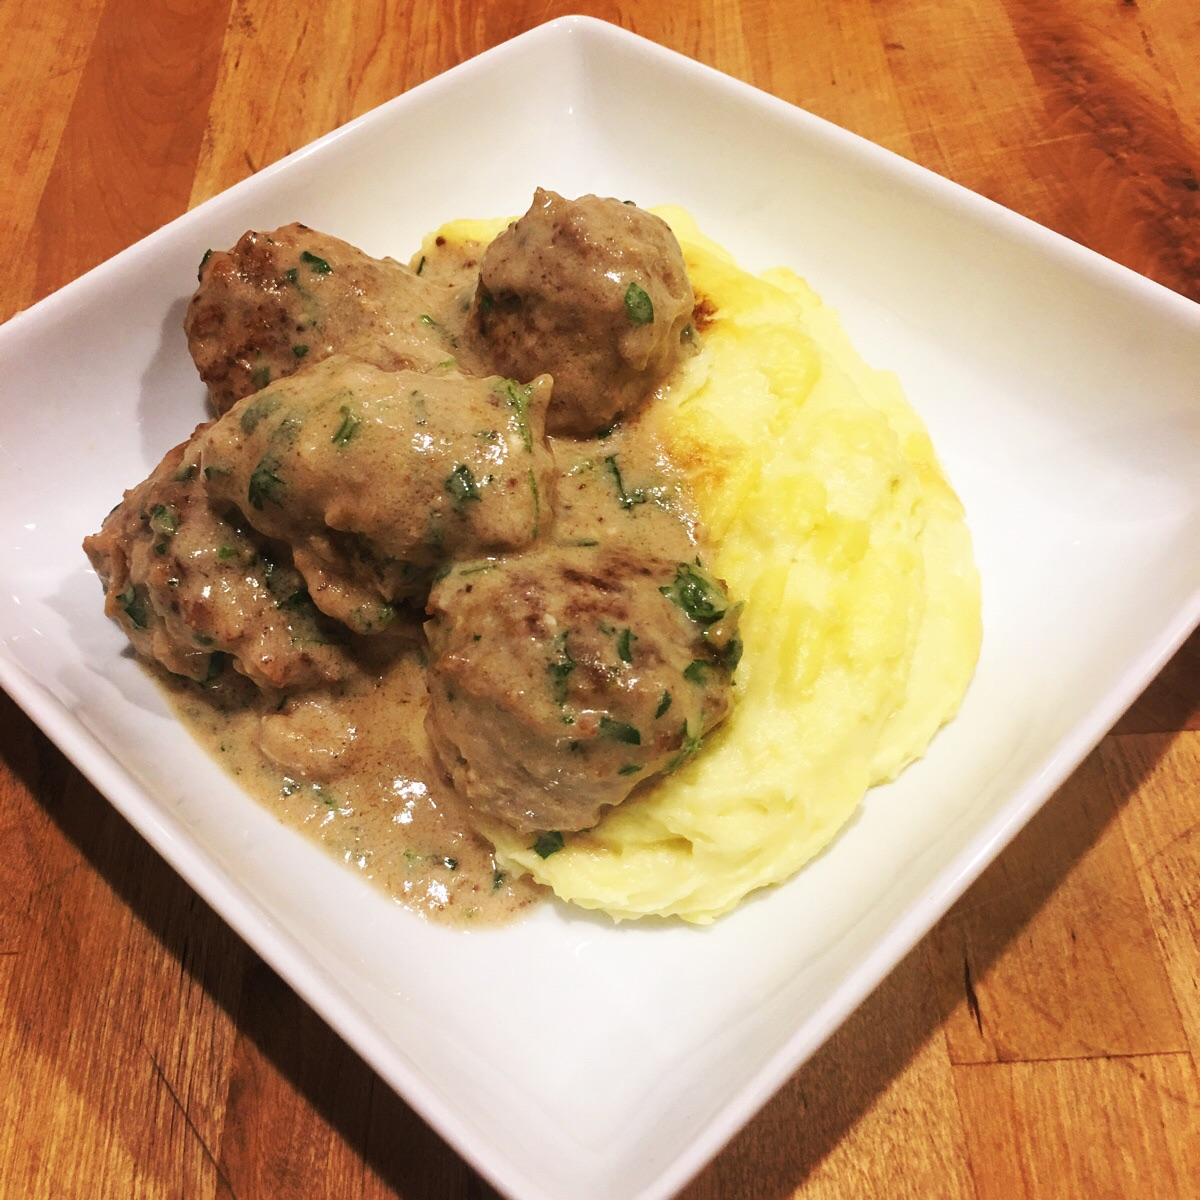meatballs: (179, 343, 555, 580), (438, 552, 713, 801), (491, 195, 709, 409)
